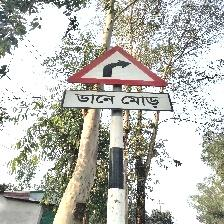Right-turn: (63, 45, 172, 114)
